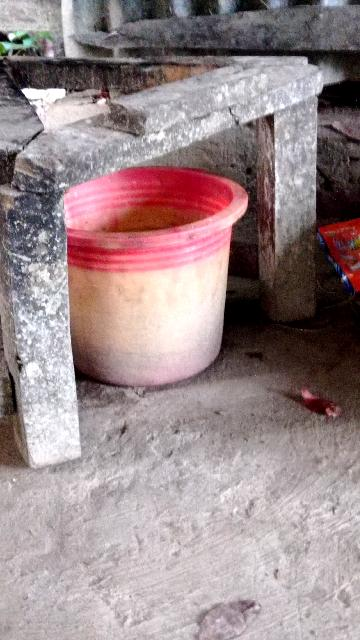hardplastic: (64, 181, 264, 384)
